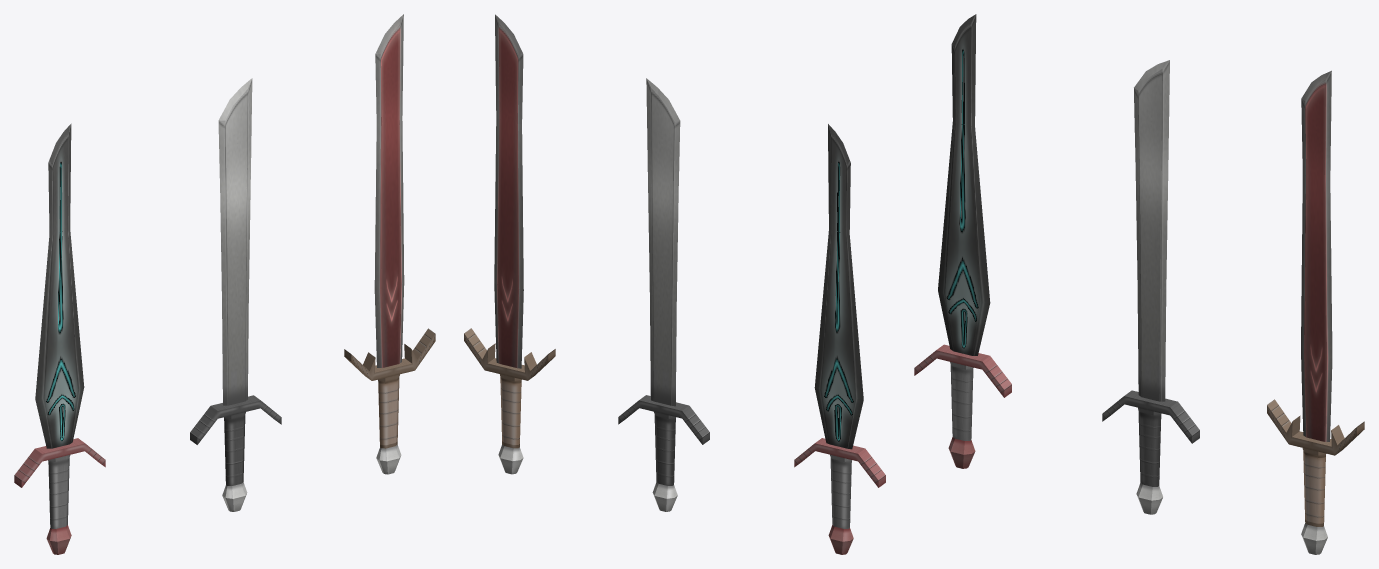
File: BladeSet.FBX
The picture shows the model from 3 angles, left to right: view 1: azimuth 30°, elevation 25°; view 2: azimuth 150°, elevation 25°; view 3: azimuth 330°, elevation 25°; orthographic projection. The views are drawn at different scales.
Visible parts, largest first — view 1: Blade3, Blade2, Blade1; view 2: Blade3, Blade2, Blade1; view 3: Blade3, Blade2, Blade1.
Part boxes in pixels (x1,y1,x2,y2): Blade3: (14, 123, 105, 554); Blade2: (344, 14, 435, 474); Blade1: (190, 78, 281, 511); Blade3: (794, 124, 885, 554); Blade2: (464, 14, 555, 474); Blade1: (618, 78, 709, 511); Blade3: (914, 14, 1011, 468); Blade2: (1267, 70, 1364, 554); Blade1: (1102, 60, 1199, 514).
Bounding box in the file's own units: 69.39 × 72.74 × 2.65.
